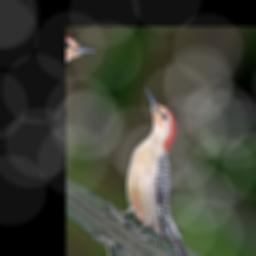Woodpecker: (92, 83, 246, 256)
